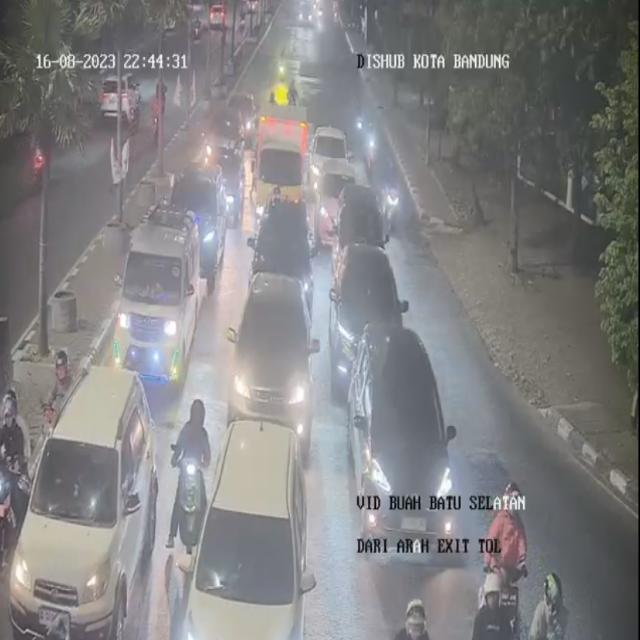cars: (9, 367, 160, 640), (348, 308, 474, 573), (190, 419, 310, 640), (114, 197, 199, 385), (229, 267, 315, 450), (327, 243, 398, 385), (333, 179, 402, 300), (172, 163, 228, 278), (195, 96, 246, 178), (316, 156, 354, 234), (312, 119, 344, 179), (233, 81, 256, 142)
motorcycle: (485, 460, 538, 610), (168, 390, 208, 549), (0, 375, 29, 543), (466, 566, 525, 640), (41, 348, 73, 412), (383, 166, 405, 226), (361, 125, 383, 177)
truck: (246, 105, 306, 233)
